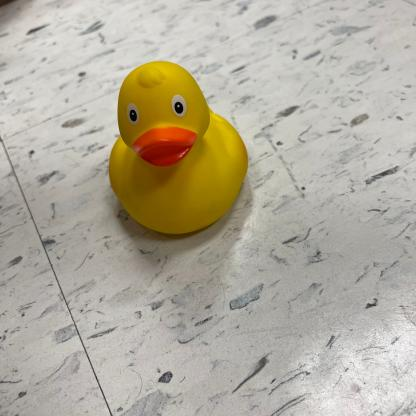duck: (106, 58, 251, 240)
